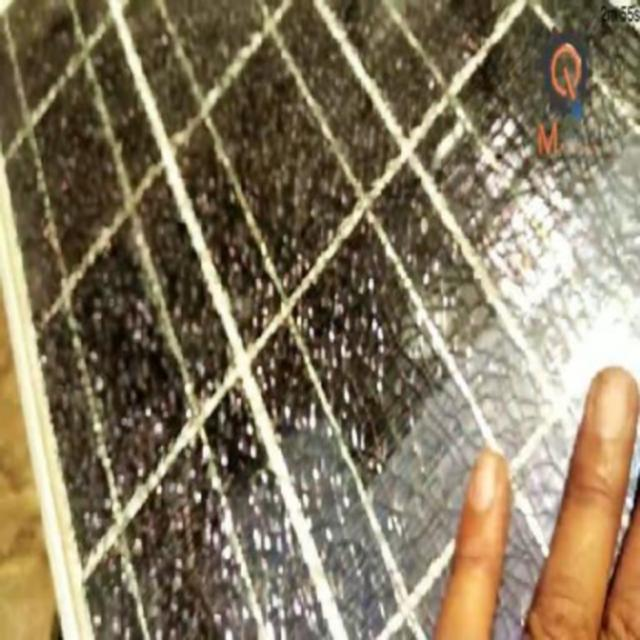cracked: (8, 4, 636, 634)
